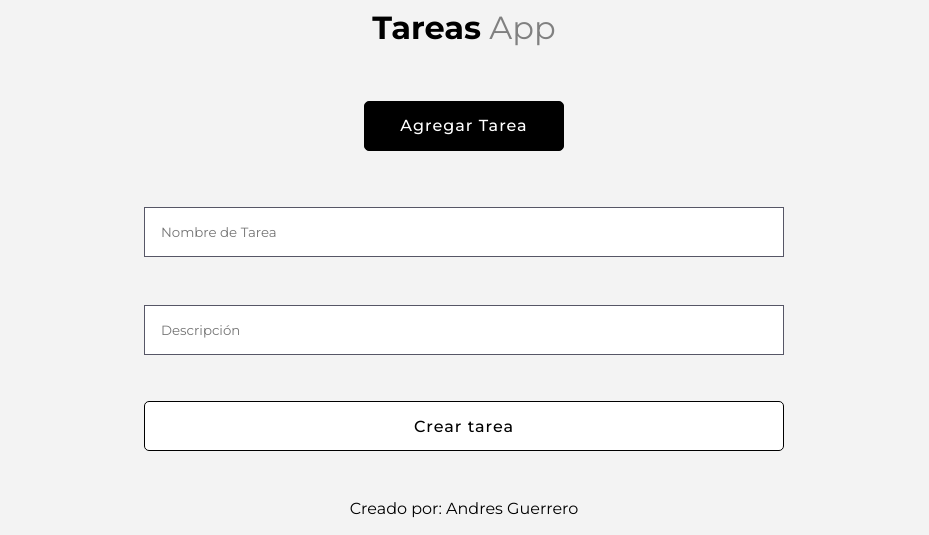
Test: <TaskForm /> › <TaskForm /> - Verificar formulario para nueva tarea
Expected: the button "Crear tarea" is shown, [144,401,784,451]
In the field with test id "titulo-input": (464, 232) [144,207,784,257], type "Organizar el cuarto"
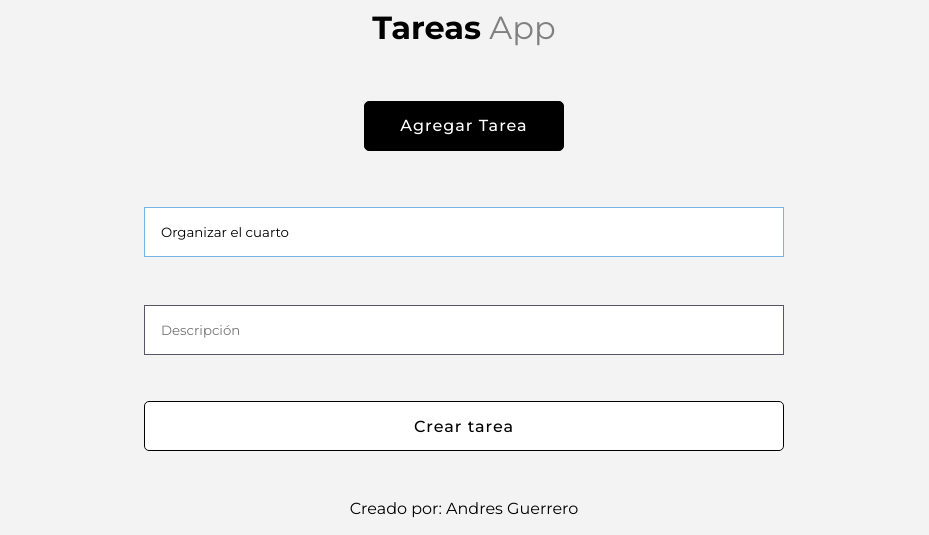
In the field with test id "descripcion-input": (464, 330) [144,305,784,355], type "Limpiar los muebles de mi cuarto"
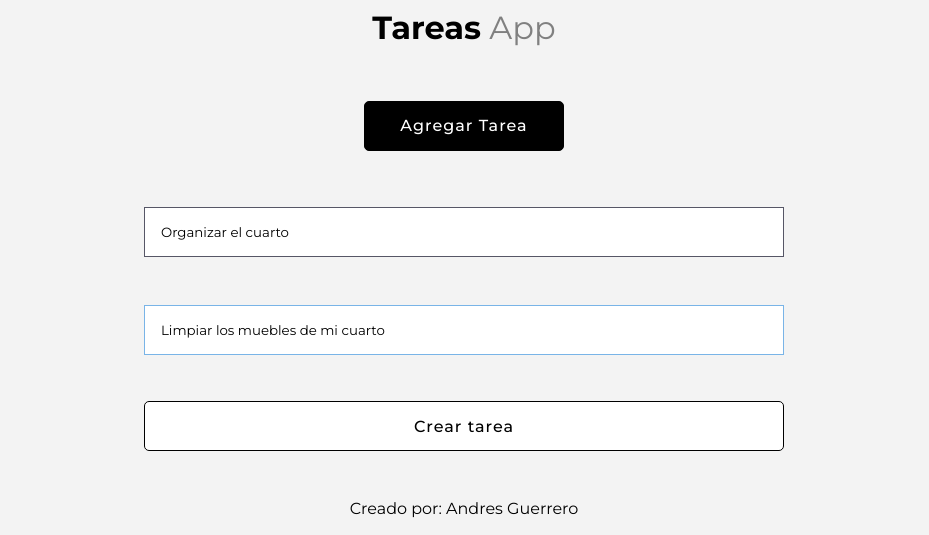
Click the button with test id "boton-form-tarea": (464, 426) [144,401,784,451]
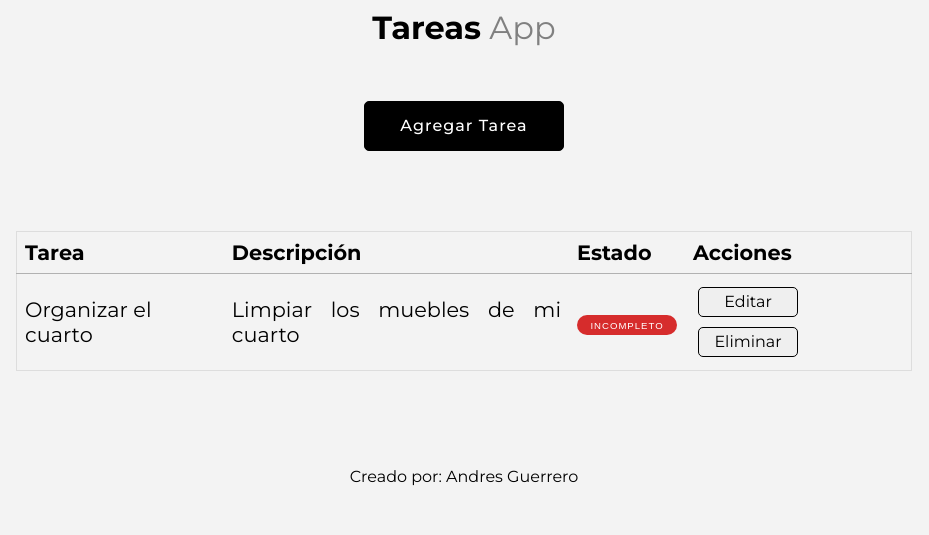
Expected: the table with test id "tabla-tareas" is shown, [16,231,912,371]
Expected: the cell with test id "td-titulo" reads "Organizar el cuarto", [17,273,224,370]
Expected: the cell with test id "td-descripcion" reads "Limpiar los muebles de mi cuarto", [224,273,569,370]
